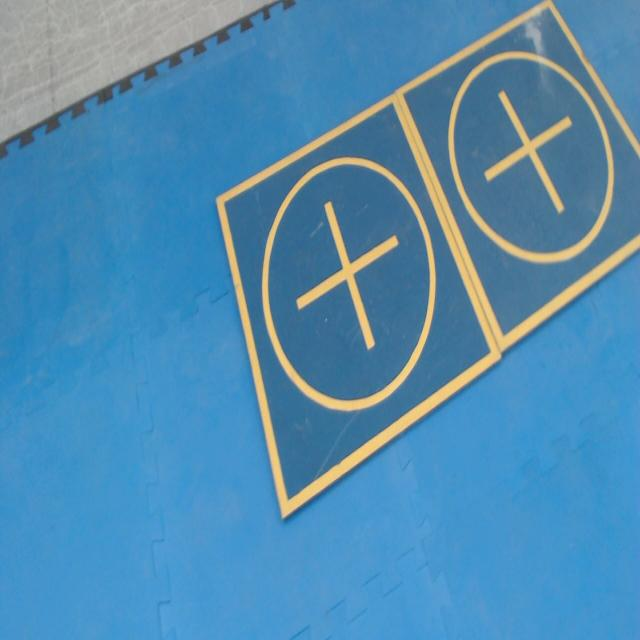base_pouso: (214, 93, 506, 524), (394, 0, 640, 356)
